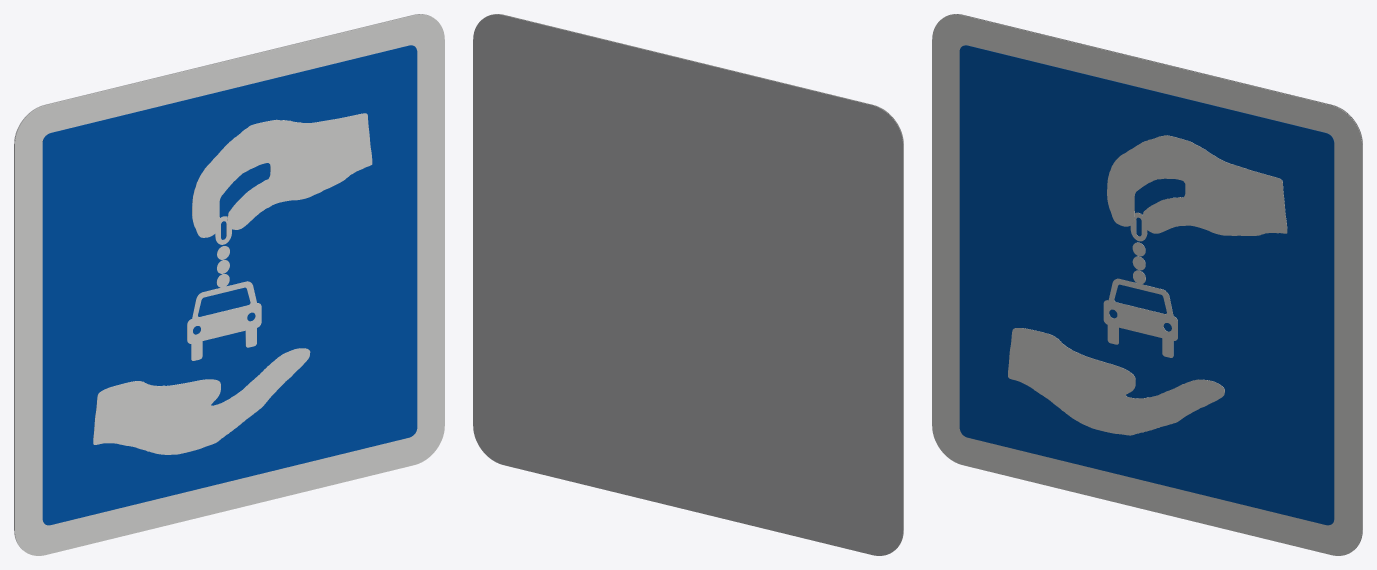
3 renders of one model, left to right at view 1: azimuth 30°, elevation 25°; view 2: azimuth 150°, elevation 25°; view 3: azimuth 330°, elevation 25°, orthographic.
Parts seen in each view (by area): view 1: C9_p02, C9_p01, C9_p09, C9_p10, C9_p04, C9_dos; view 2: C9_dos, C9_p01; view 3: C9_p02, C9_p01, C9_p09, C9_p10, C9_p04, C9_dos.
Part boxes in pixels (x1,y1,x2,y2): C9_p02: (42,45,417,525); C9_p01: (14,14,444,555); C9_p09: (192,113,372,237); C9_p10: (93,348,310,454); C9_p04: (187,281,261,360); C9_dos: (14,14,431,549); C9_dos: (473,14,903,555); C9_p01: (486,14,903,549); C9_p02: (959,45,1334,525); C9_p01: (932,14,1362,555); C9_p09: (1107,135,1287,235); C9_p10: (1008,328,1224,435); C9_p04: (1103,278,1177,357); C9_dos: (945,14,1362,549).
Bounding box in the file's own units: 0.7 × 0.6999 × 0.0059.
